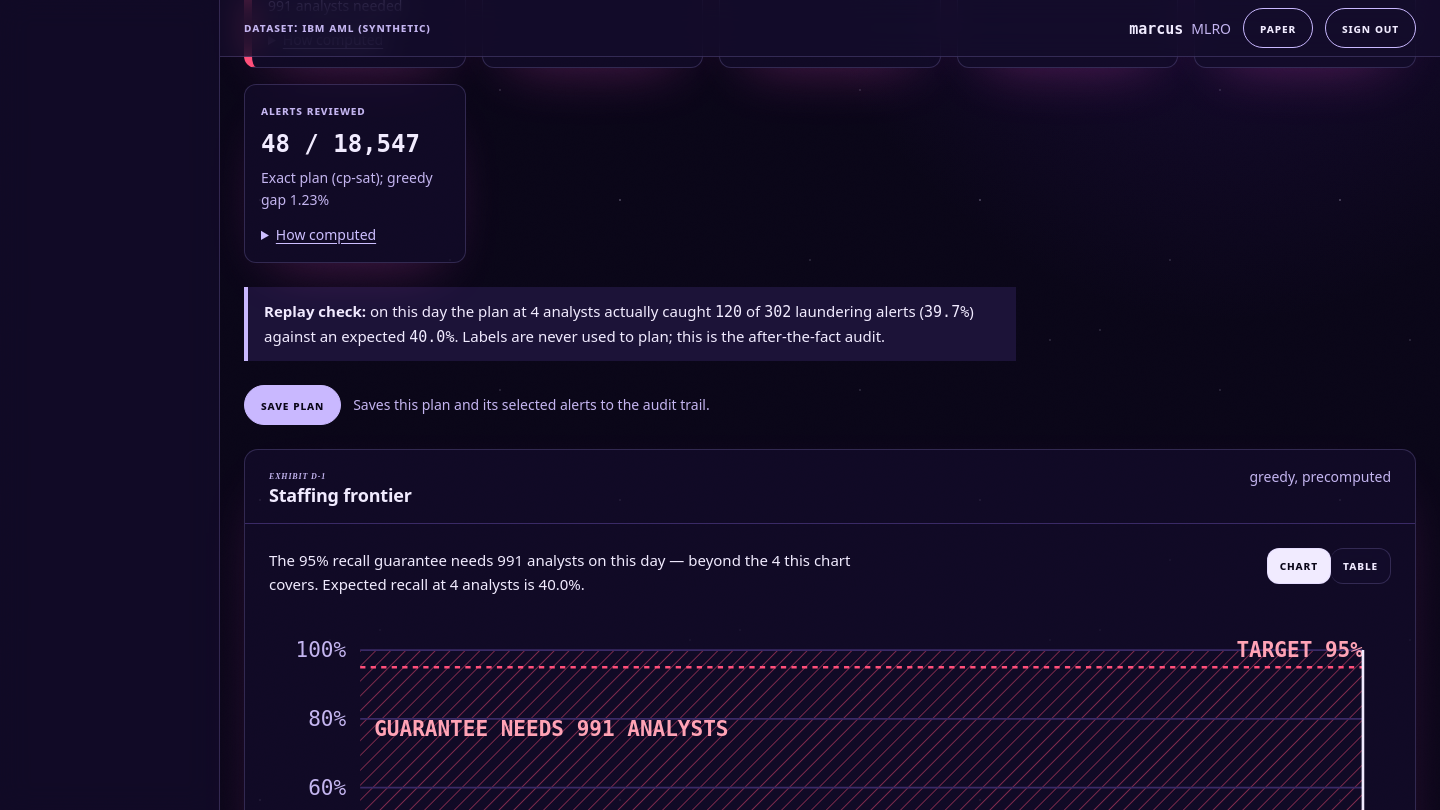
Test case: saves the MLRO's plan with the chosen settings
This screenshot has width=1440, height=810.
(page scrolled)
Expected: the text "Exact plan (cp-sat); greedy gap 1.23%" is shown, [261,167,449,212]
Click the button "Save plan" at (293,405), box [244,385,341,425]
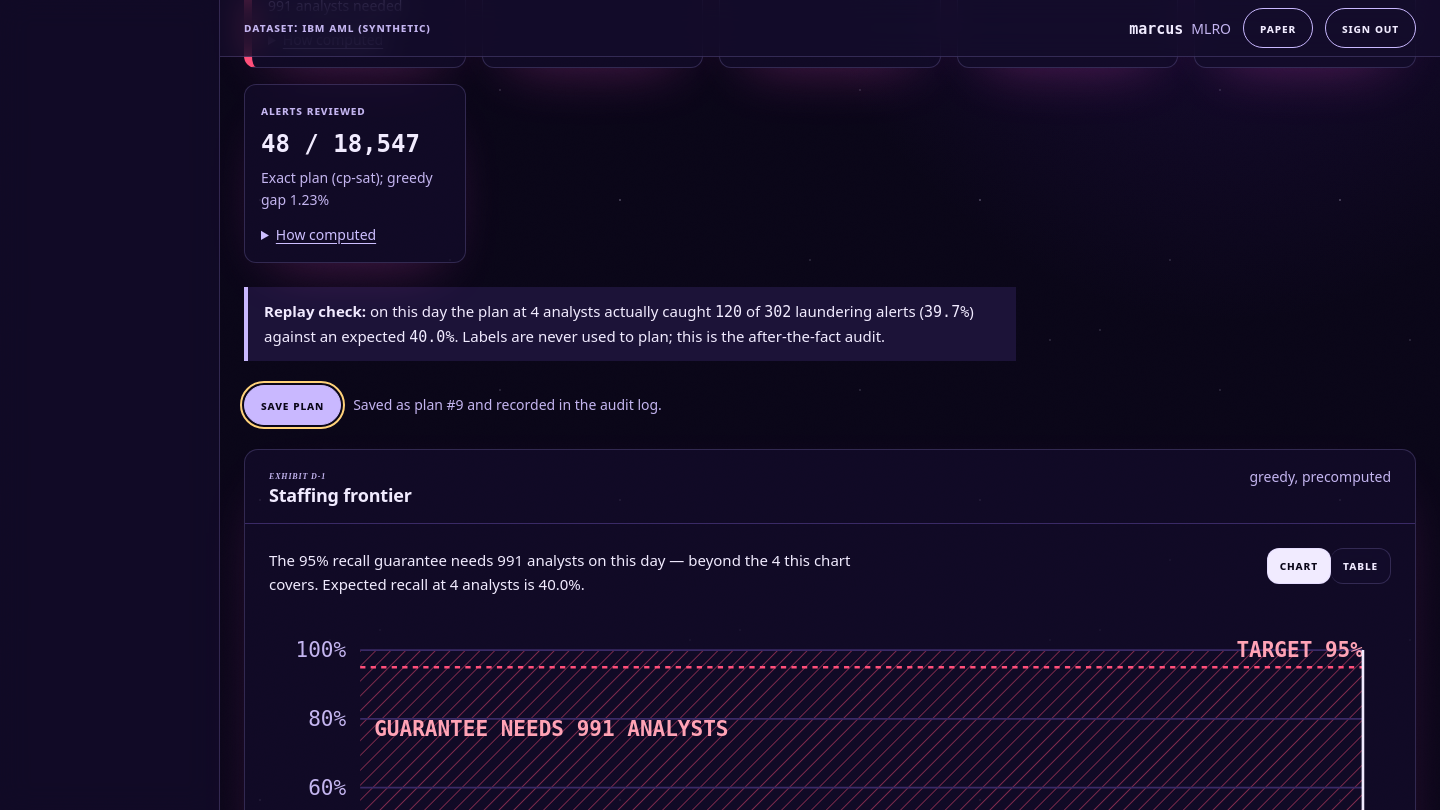
Expected: the text "Saved as plan #9 and recorded in the audit log." is shown, [353,394,662,416]
